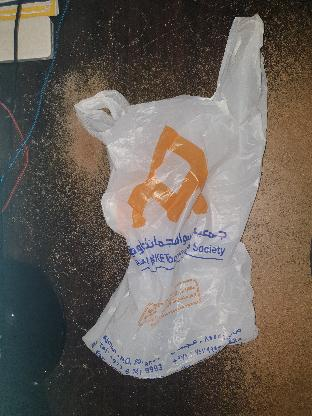Plastic Bag: (75, 15, 268, 381)
